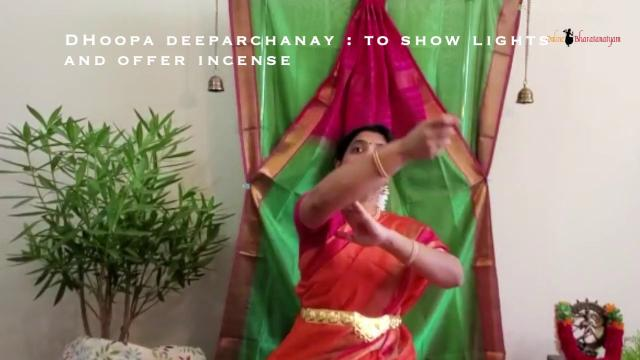kapitth: (394, 105, 468, 173)
